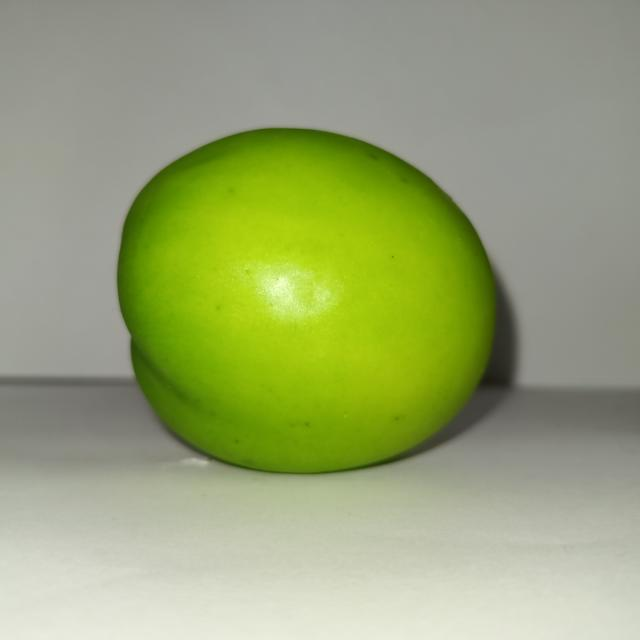Red: (115, 125, 498, 475)
